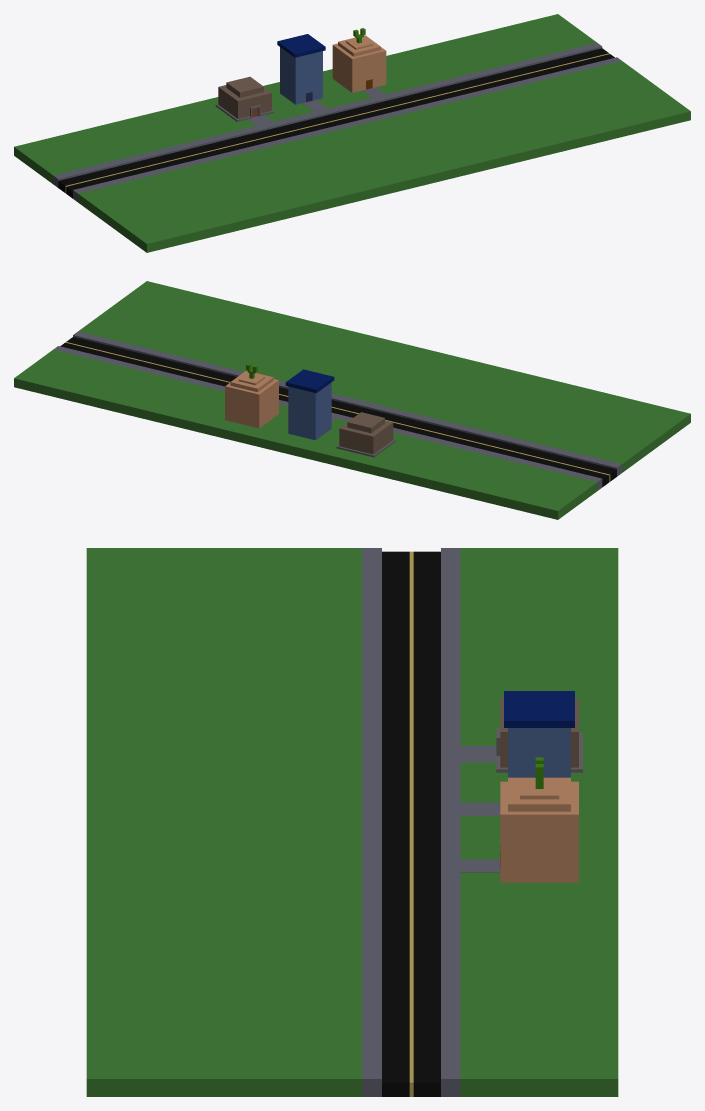
Rendered from Street Combat textureless.fbx.
The picture shows the model from 3 angles, top to bottom: view 1: azimuth 30°, elevation 25°; view 2: azimuth 150°, elevation 25°; view 3: azimuth 270°, elevation 25°; orthographic projection. The views are drawn at different scales.
Visible parts, largest first — view 1: Street Combat textureless; view 2: Street Combat textureless; view 3: Street Combat textureless.
Part boxes in pixels (box(x1,y1,x2,y2)): Street Combat textureless: box(14, 14, 690, 252); Street Combat textureless: box(14, 281, 690, 519); Street Combat textureless: box(86, 548, 618, 1096).
Bounding box in the file's own units: 63800 × 6800 × 27000.
